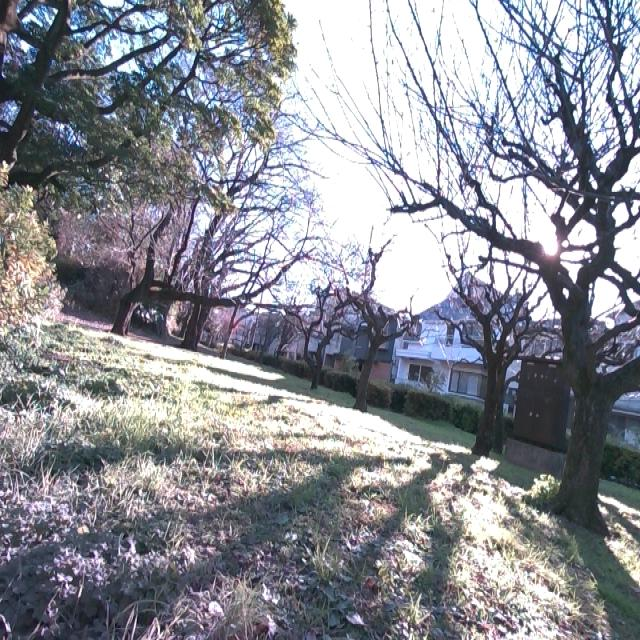bush: (0, 182, 62, 336)
tree: (397, 0, 640, 528), (0, 0, 276, 184), (97, 110, 288, 340), (436, 206, 559, 457), (172, 148, 287, 356), (322, 231, 423, 421), (296, 260, 353, 392)
